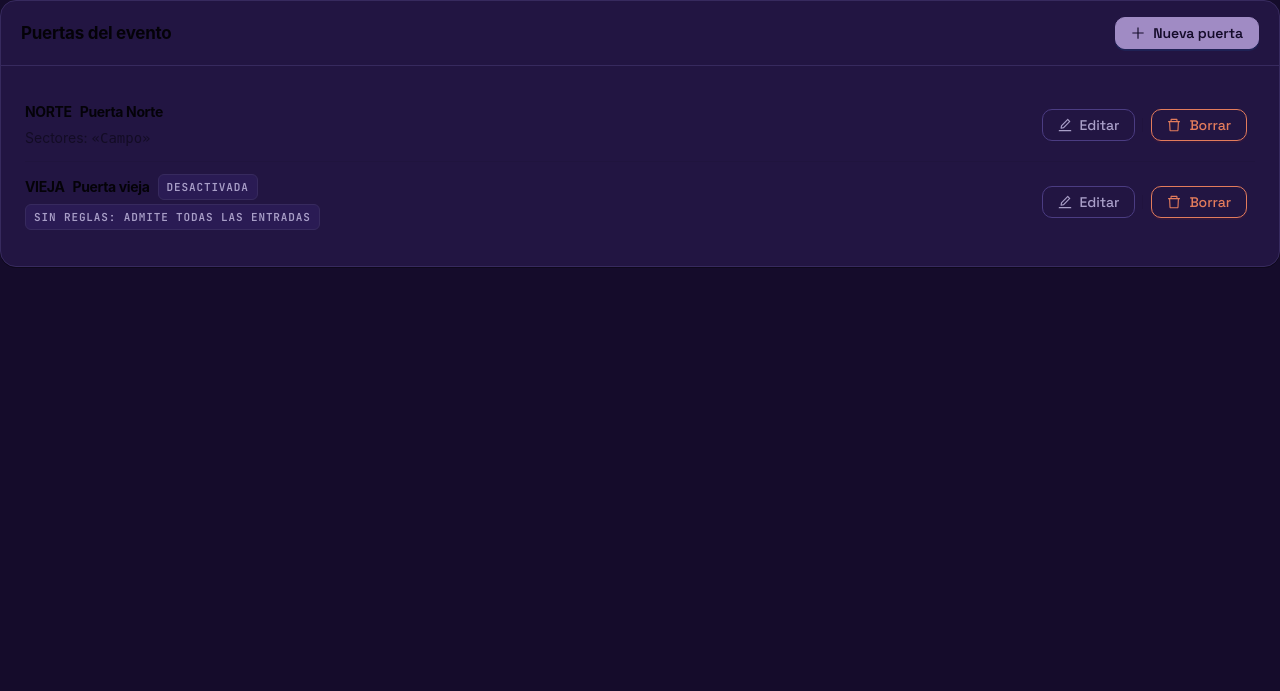
Test case: GatesCard › no avisa de sectores faltantes cuando el evento sí tiene
Click the button "Nueva puerta".
click(1187, 33)  # box [1115,17,1259,49]
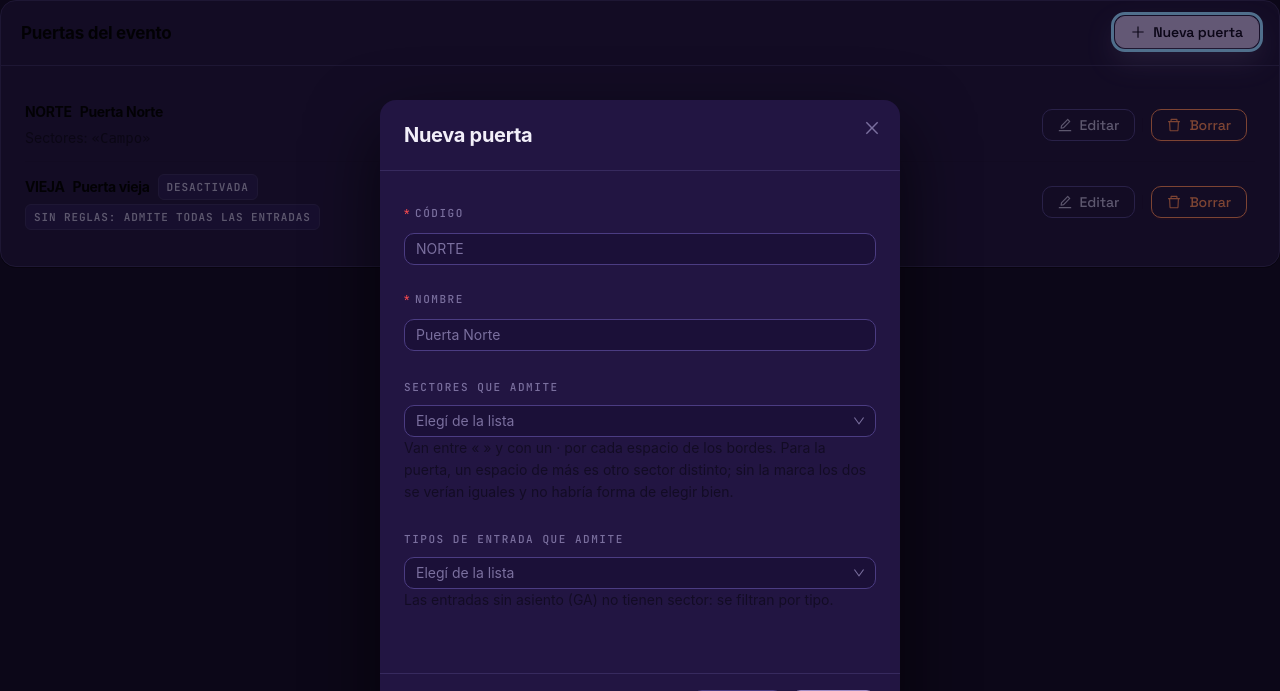
Now the search field labelled "Sectores que admite" is shown, box [404,379,577,396]
